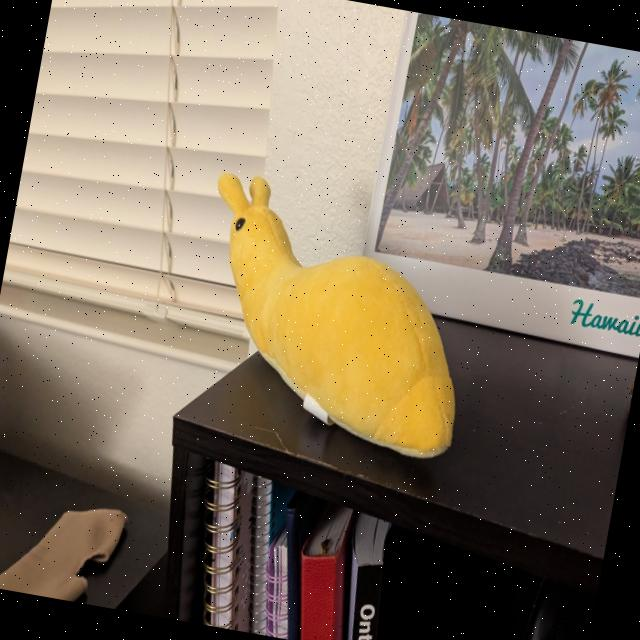banana-slug-toy: (168, 159, 518, 482)
